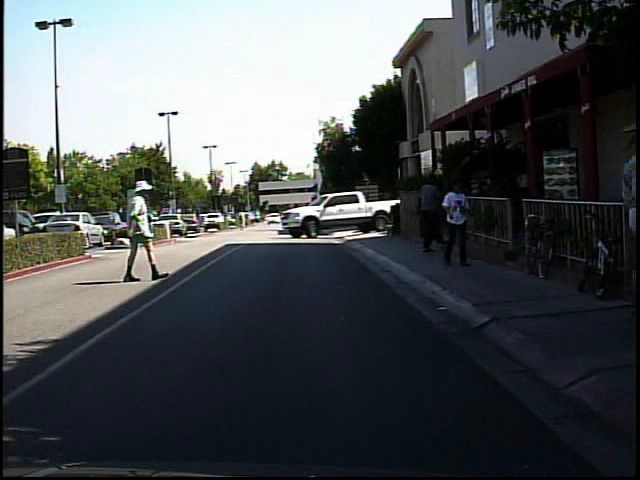person: (111, 176, 170, 285), (436, 173, 479, 273), (413, 170, 447, 257), (141, 207, 158, 239), (236, 204, 252, 229)
